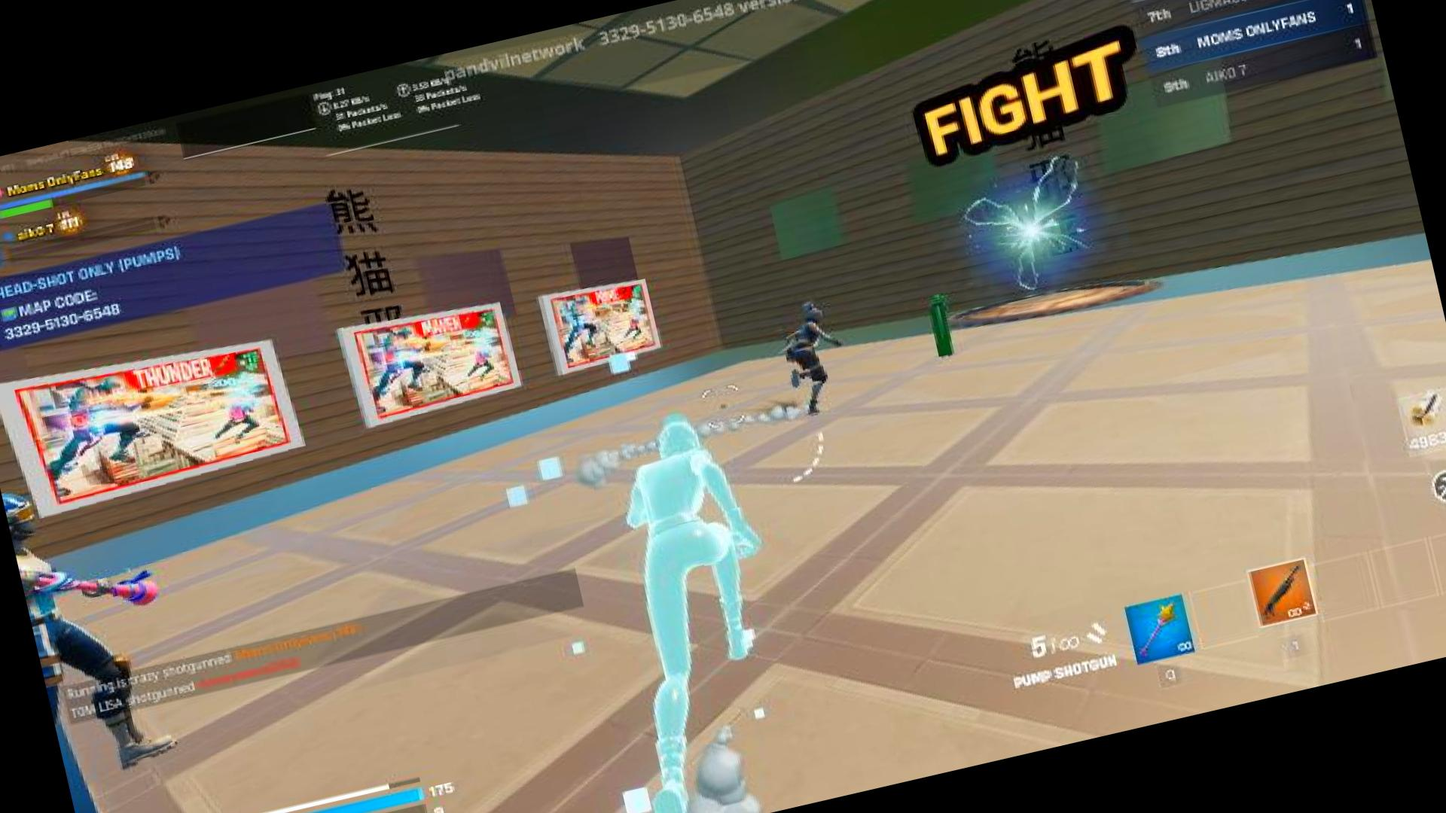player: (0, 444, 187, 794), (769, 288, 856, 423)
